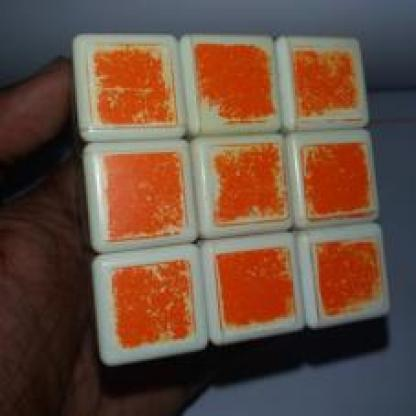cube: (64, 27, 390, 358)
